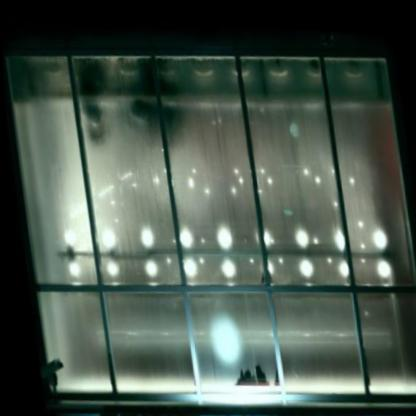Window: (0, 10, 416, 416)
